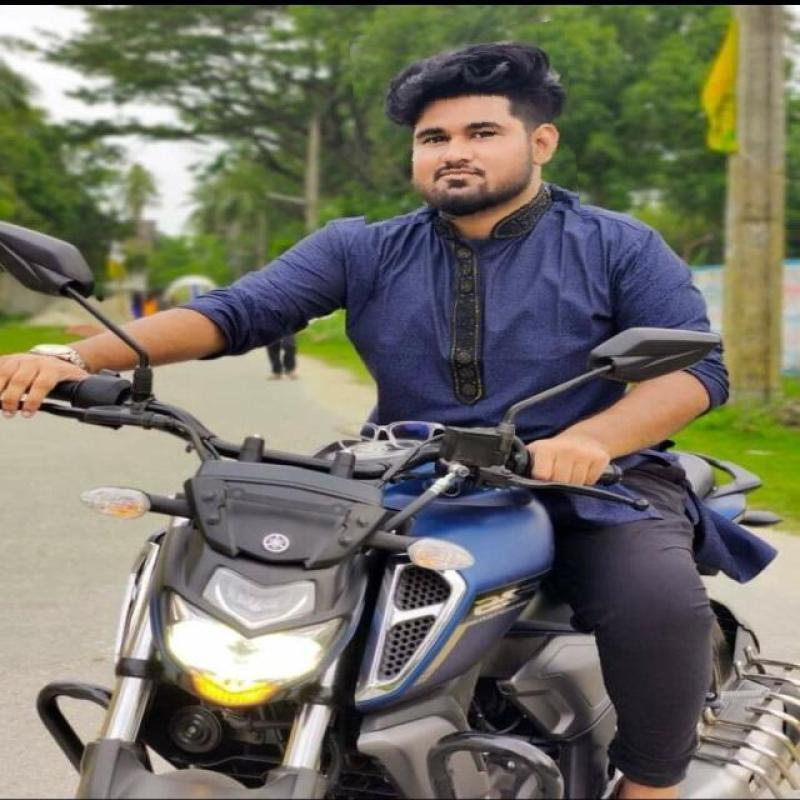nohelmet: (353, 25, 576, 224)
